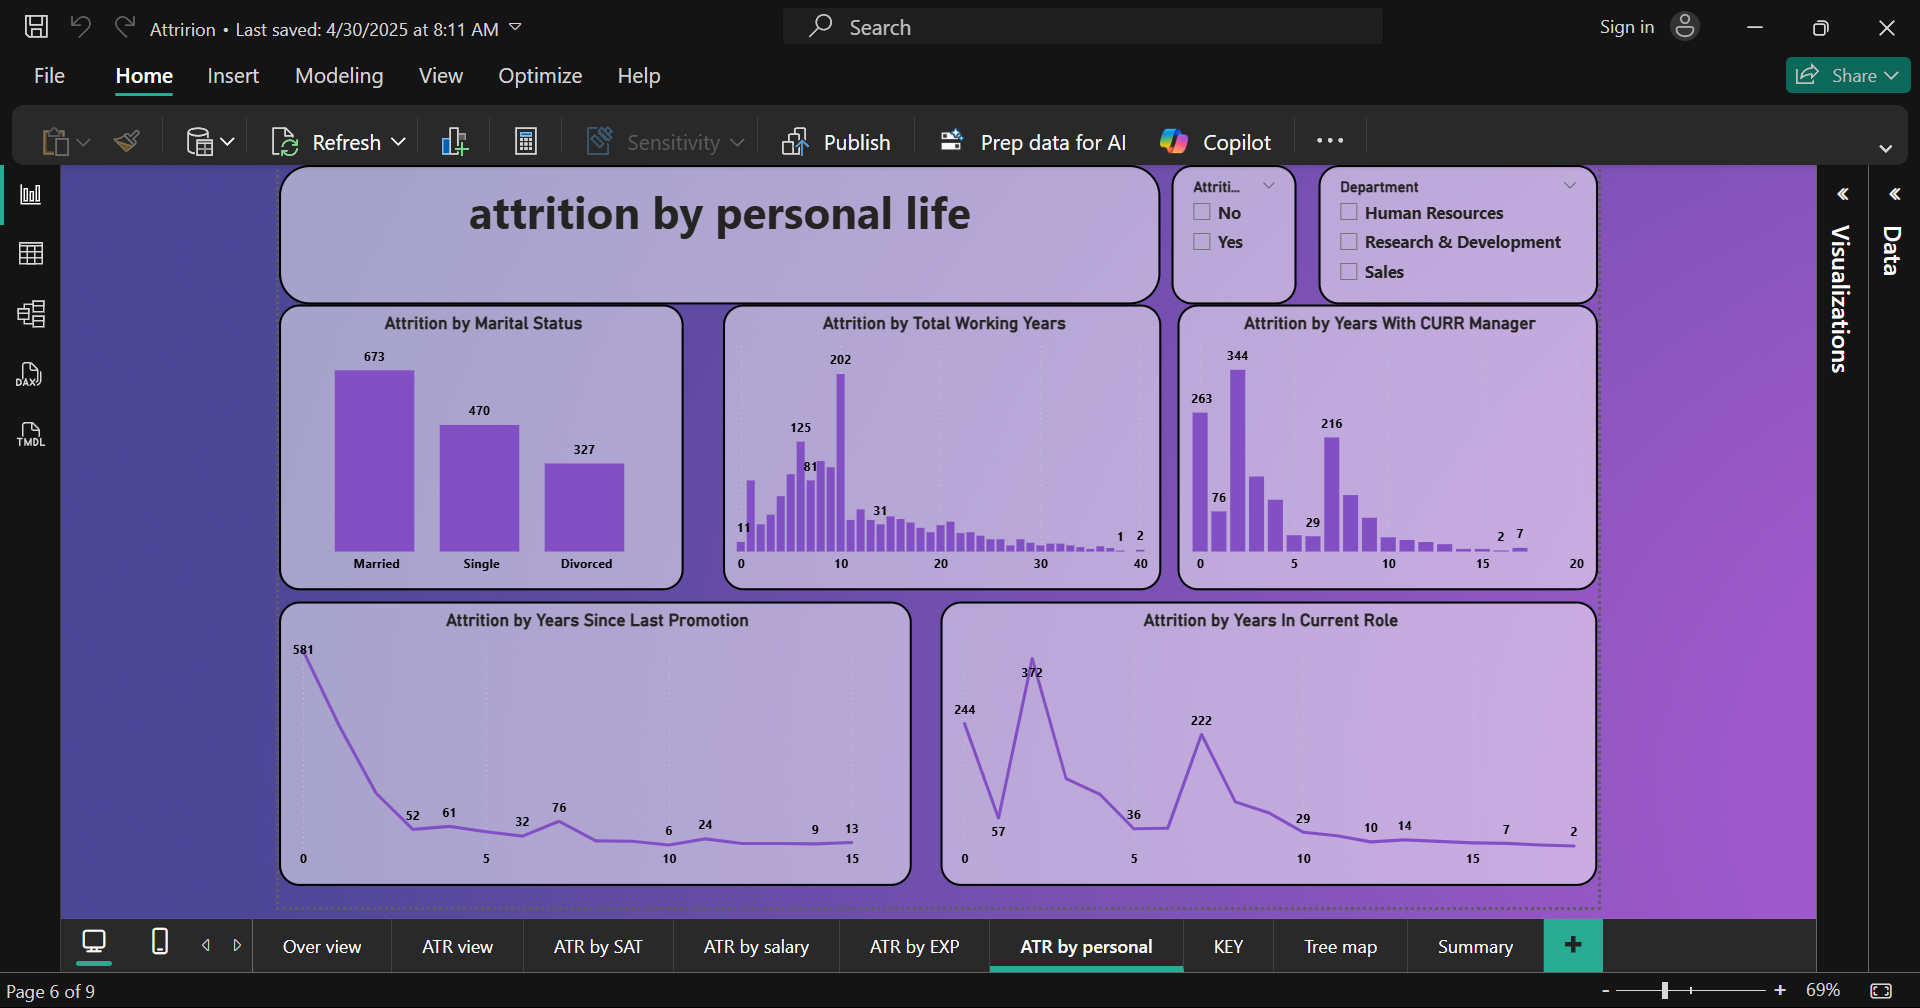

Layout of this report page (visuals, bound fields, positions):
{"tool":"powerbi","page":{"name":"ATR by personal","canvas":[1280,720],"ordinal":5},"visuals":[{"type":"textbox","box":[0,0,855.6,135.6],"z":0},{"type":"clusteredColumnChart","title":"Attrition by Total Working Years","fields":{"Category":["clean data.TotalWorkingYears"],"Y":["CountNonNull(clean data.Attrition)"]},"box":[430.1,135.6,425.5,277.4],"z":1000},{"type":"clusteredColumnChart","title":"Attrition by Marital Status","fields":{"Category":["clean data.MaritalStatus"],"Y":["CountNonNull(clean data.Attrition)"]},"box":[0,135.6,392.7,277.4],"z":2000},{"type":"clusteredColumnChart","title":"Attrition by Years With CURR Manager","fields":{"Y":["CountNonNull(clean data.Attrition)"],"Category":["clean data.YearsWithCurrManager"]},"box":[871.2,135.6,408.3,277.4],"z":3000},{"type":"lineChart","title":"Attrition by Years Since Last Promotion","fields":{"Category":["clean data.YearsSinceLastPromotion"],"Y":["CountNonNull(clean data.Attrition)"]},"box":[0,423.9,614,275.8],"z":4000},{"type":"lineChart","title":"Attrition by Years In Current Role","fields":{"Category":["clean data.YearsInCurrentRole"],"Y":["CountNonNull(clean data.Attrition)"]},"box":[642.1,423.9,637.4,275.8],"z":5000},{"type":"slicer","fields":{"Values":["clean data.Department"]},"box":[1008.3,0,271.2,135.6],"z":6000},{"type":"slicer","fields":{"Values":["clean data.Attrition"]},"box":[866.5,0,121.6,135.6],"z":7000}]}

Visuals, with their boxes on the page's 1280x720 design canvas (x1, y1, x2, y2). These are canvas units, not pixel positions in the 1920x1008 screenshot, which may show the page scaled, cropped or inside an application window:
textbox: [0, 0, 856, 136]
"Attrition by Total Working Years" clusteredColumnChart: [430, 136, 856, 413]
"Attrition by Marital Status" clusteredColumnChart: [0, 136, 393, 413]
"Attrition by Years With CURR Manager" clusteredColumnChart: [871, 136, 1280, 413]
"Attrition by Years Since Last Promotion" lineChart: [0, 424, 614, 700]
"Attrition by Years In Current Role" lineChart: [642, 424, 1280, 700]
slicer - clean data.Department: [1008, 0, 1280, 136]
slicer - clean data.Attrition: [866, 0, 988, 136]
